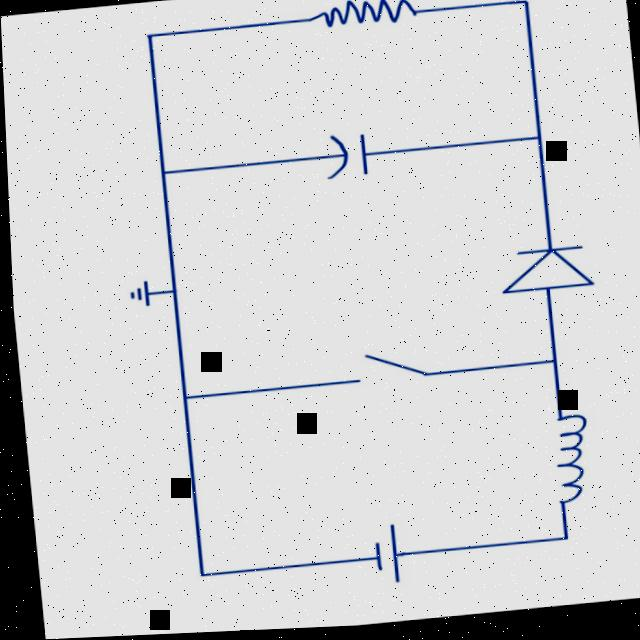capacitor: (303, 120, 408, 203)
diode: (467, 234, 612, 319)
ground: (104, 271, 164, 314)
inductor: (528, 405, 598, 523)
resistor: (291, 0, 442, 49)
source: (337, 518, 423, 602)
switch: (317, 341, 468, 403)
